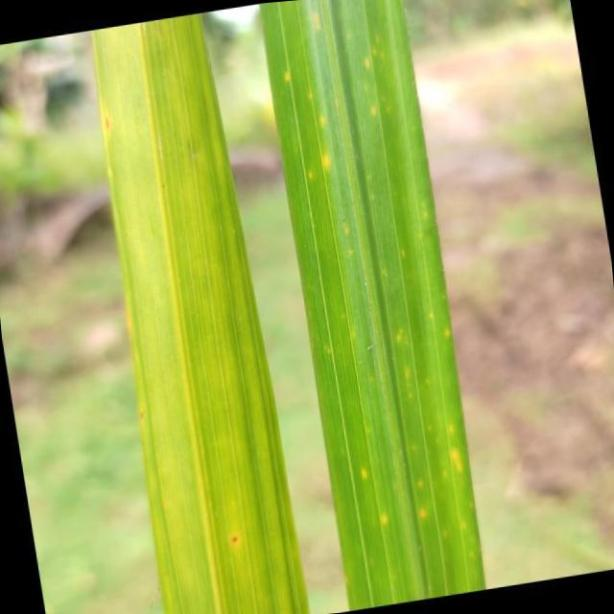nitrogen: (259, 0, 485, 605), (91, 6, 309, 614)
